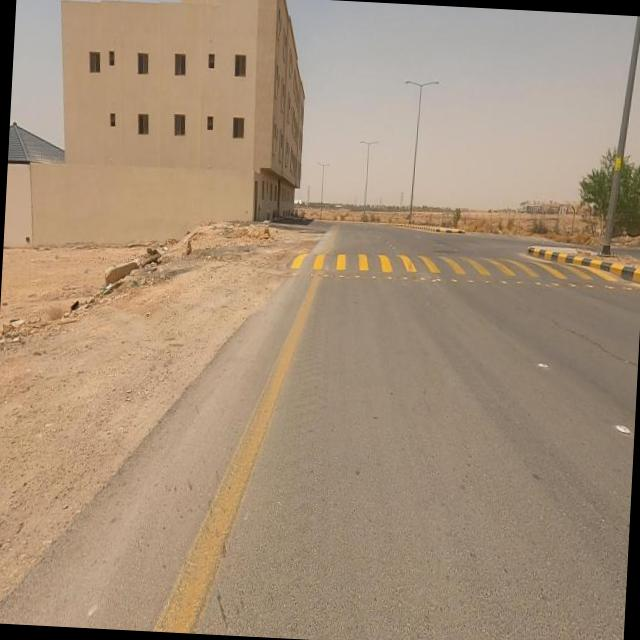debris: (110, 199, 200, 316)
